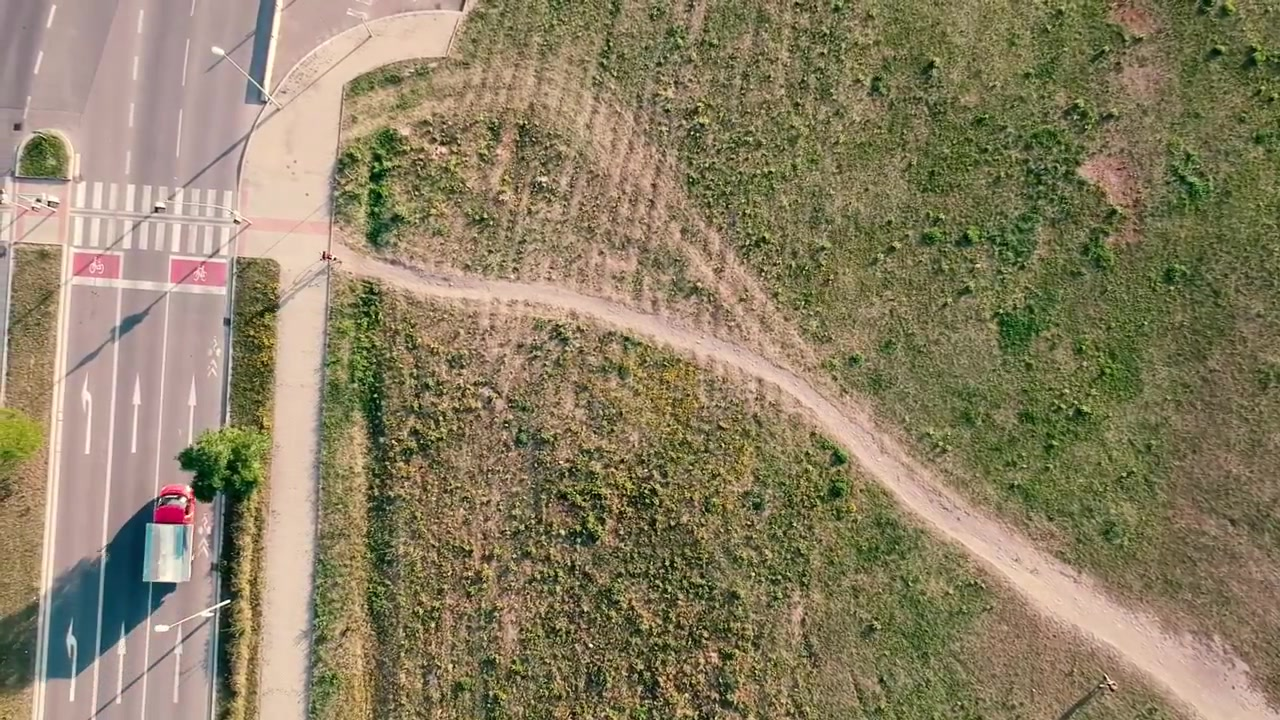car: (142, 483, 199, 586)
